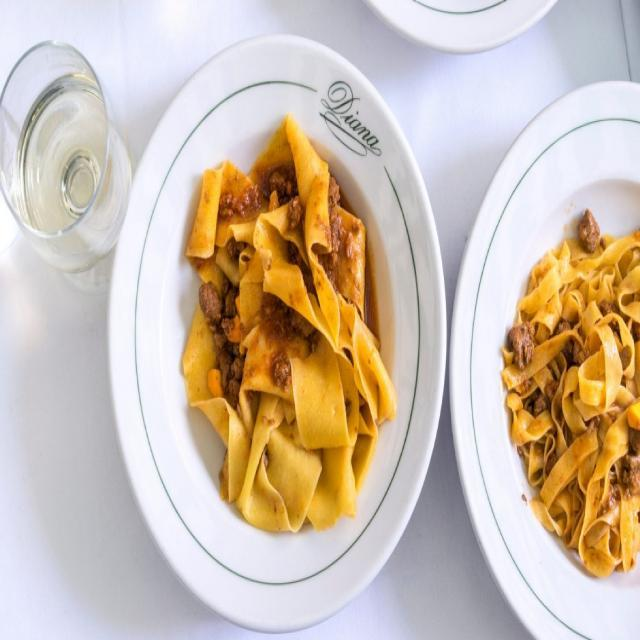Pasta al ragu: (188, 125, 401, 525), (515, 165, 639, 577)
